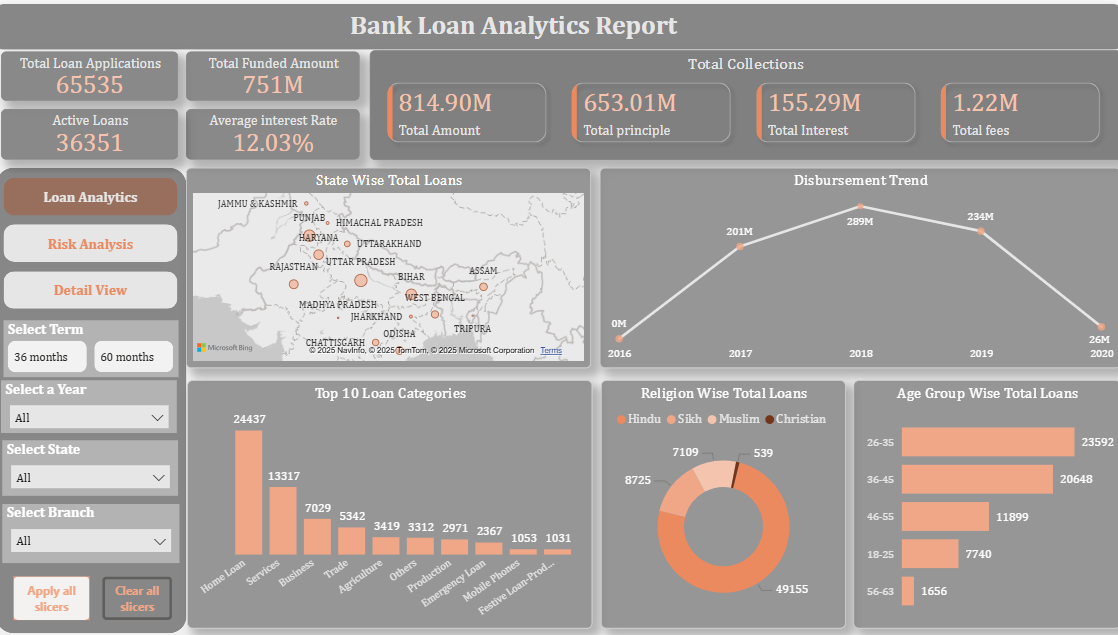

The page's visual inventory and layout, read from the dashboard file:
{"tool":"tableau","page":{"name":"Bank Loan Analysis","canvas":[1000,1000],"units":"permille","ordinal":0},"visuals":[{"type":"image","param":"Image/OIP.jpeg","box":[4.8,10,56.1,81]},{"type":"text","box":[61,10,382.7,81]},{"type":"worksheet","title":"Total amount","mark":"Automatic","box":[443.7,10,118.1,81]},{"type":"worksheet","title":"Total Loan","mark":"Automatic","box":[561.8,10,120.1,81]},{"type":"worksheet","title":"Total funded amount","mark":"Automatic","box":[681.9,10,124.3,81]},{"type":"worksheet","title":"Interest Rate","mark":"Automatic","box":[806.2,10,125,81]},{"type":"dashboard-object","box":[931.2,10,64,81]},{"type":"worksheet","title":"State wise loan","mark":"Automatic","box":[4.8,91,328.1,449.5]},{"type":"worksheet","title":"Disbursement year wise loan","mark":"Automatic","rows":["Loan Amount"],"cols":["Disbursement Date"],"box":[332.9,91,331.1,449.5]},{"type":"worksheet","title":"Age Wise loan","mark":"Pie","box":[664,91,234.6,449.5]},{"type":"dashboard-object","box":[898.6,91,96.6,92.5]},{"type":"filter","title":"Total amount","param":"[federated.0yds4hb18ijchr19jztn01kqfz8w].[none:Religion:nk]","box":[898.6,183.5,96.6,112.4]},{"type":"filter","title":"State wise loan","param":"[federated.0yds4hb18ijchr19jztn01kqfz8w].[none:Branch Name:nk]","box":[898.6,295.9,96.6,112.4]},{"type":"filter","title":"State wise loan","param":"[federated.0yds4hb18ijchr19jztn01kqfz8w].[none:Region Name:nk]","box":[898.6,408.2,96.6,132.2]},{"type":"worksheet","title":"Top 10 Product category wise loan","mark":"Automatic","rows":["Funded Amount"],"cols":["Purpose Category"],"box":[4.8,540.5,659,449.5]},{"type":"worksheet","title":"Grade wise loan","mark":"Automatic","box":[663.8,540.5,331.3,449.5]}]}

Visuals, with their boxes on the dashboard's canvas, which has no fixed pixel size, in thousandths of its width and height (x1, y1, x2, y2). These are canvas units, not pixel positions in the 1118x635 screenshot, which may show the page scaled, cropped or inside an application window:
image: locate(5, 10, 61, 91)
text: locate(61, 10, 444, 91)
"Total amount" worksheet: locate(444, 10, 562, 91)
"Total Loan" worksheet: locate(562, 10, 682, 91)
"Total funded amount" worksheet: locate(682, 10, 806, 91)
"Interest Rate" worksheet: locate(806, 10, 931, 91)
dashboard-object: locate(931, 10, 995, 91)
"State wise loan" worksheet: locate(5, 91, 333, 540)
"Disbursement year wise loan" worksheet: locate(333, 91, 664, 540)
"Age Wise loan" worksheet (Pie marks): locate(664, 91, 899, 540)
dashboard-object: locate(899, 91, 995, 184)
"Total amount" filter: locate(899, 184, 995, 296)
"State wise loan" filter: locate(899, 296, 995, 408)
"State wise loan" filter: locate(899, 408, 995, 540)
"Top 10 Product category wise loan" worksheet: locate(5, 540, 664, 990)
"Grade wise loan" worksheet: locate(664, 540, 995, 990)
